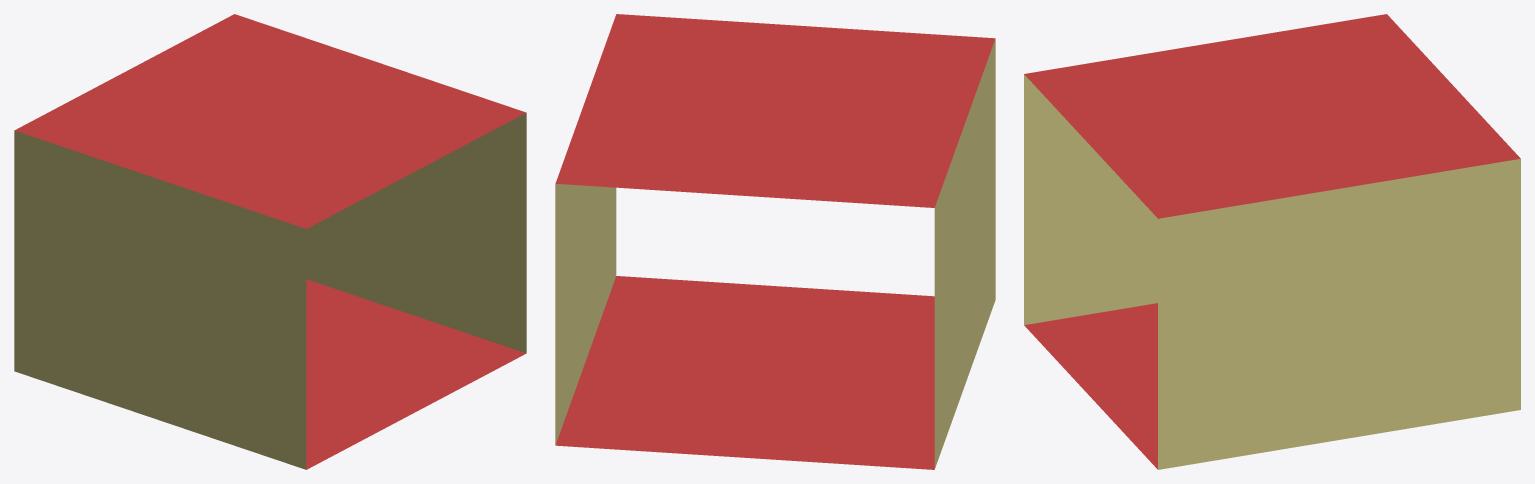
3 views of the same model, side by side, from view 1: azimuth 30°, elevation 25°; view 2: azimuth 150°, elevation 25°; view 3: azimuth 270°, elevation 25° (orthographic). The views are drawn at different scales.
Size of the model in its own units: 10.99 by 11.27 by 6.29.
